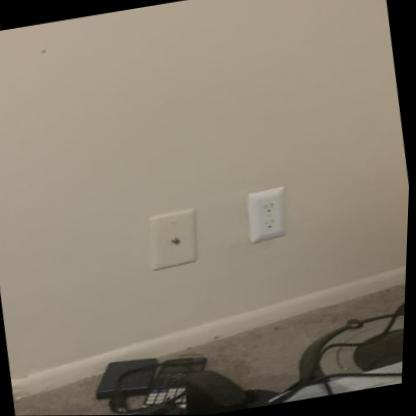OUTLET: (243, 185, 291, 242)
